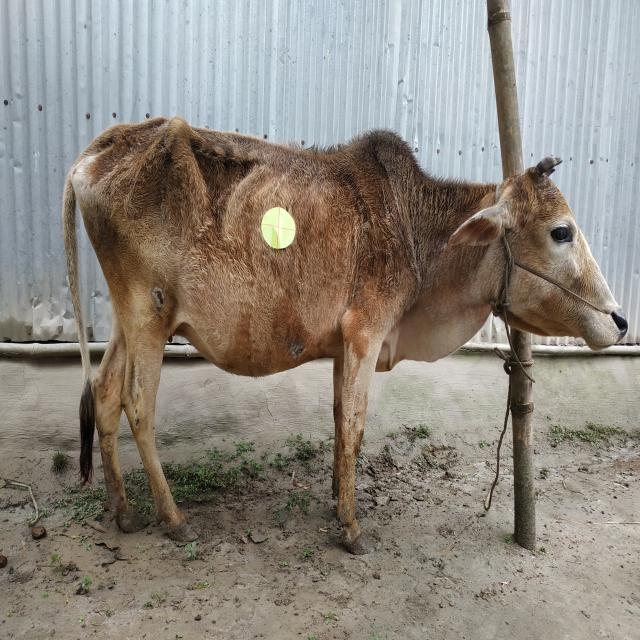badan_sapi: (66, 146, 430, 376)
sapi: (50, 95, 632, 568)
